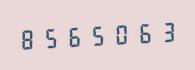eight: (17, 24, 39, 53)
five: (40, 22, 62, 51), (86, 20, 108, 49)
six: (63, 21, 85, 50), (132, 18, 154, 46)
three: (155, 16, 177, 45)
zero: (109, 19, 131, 48)
